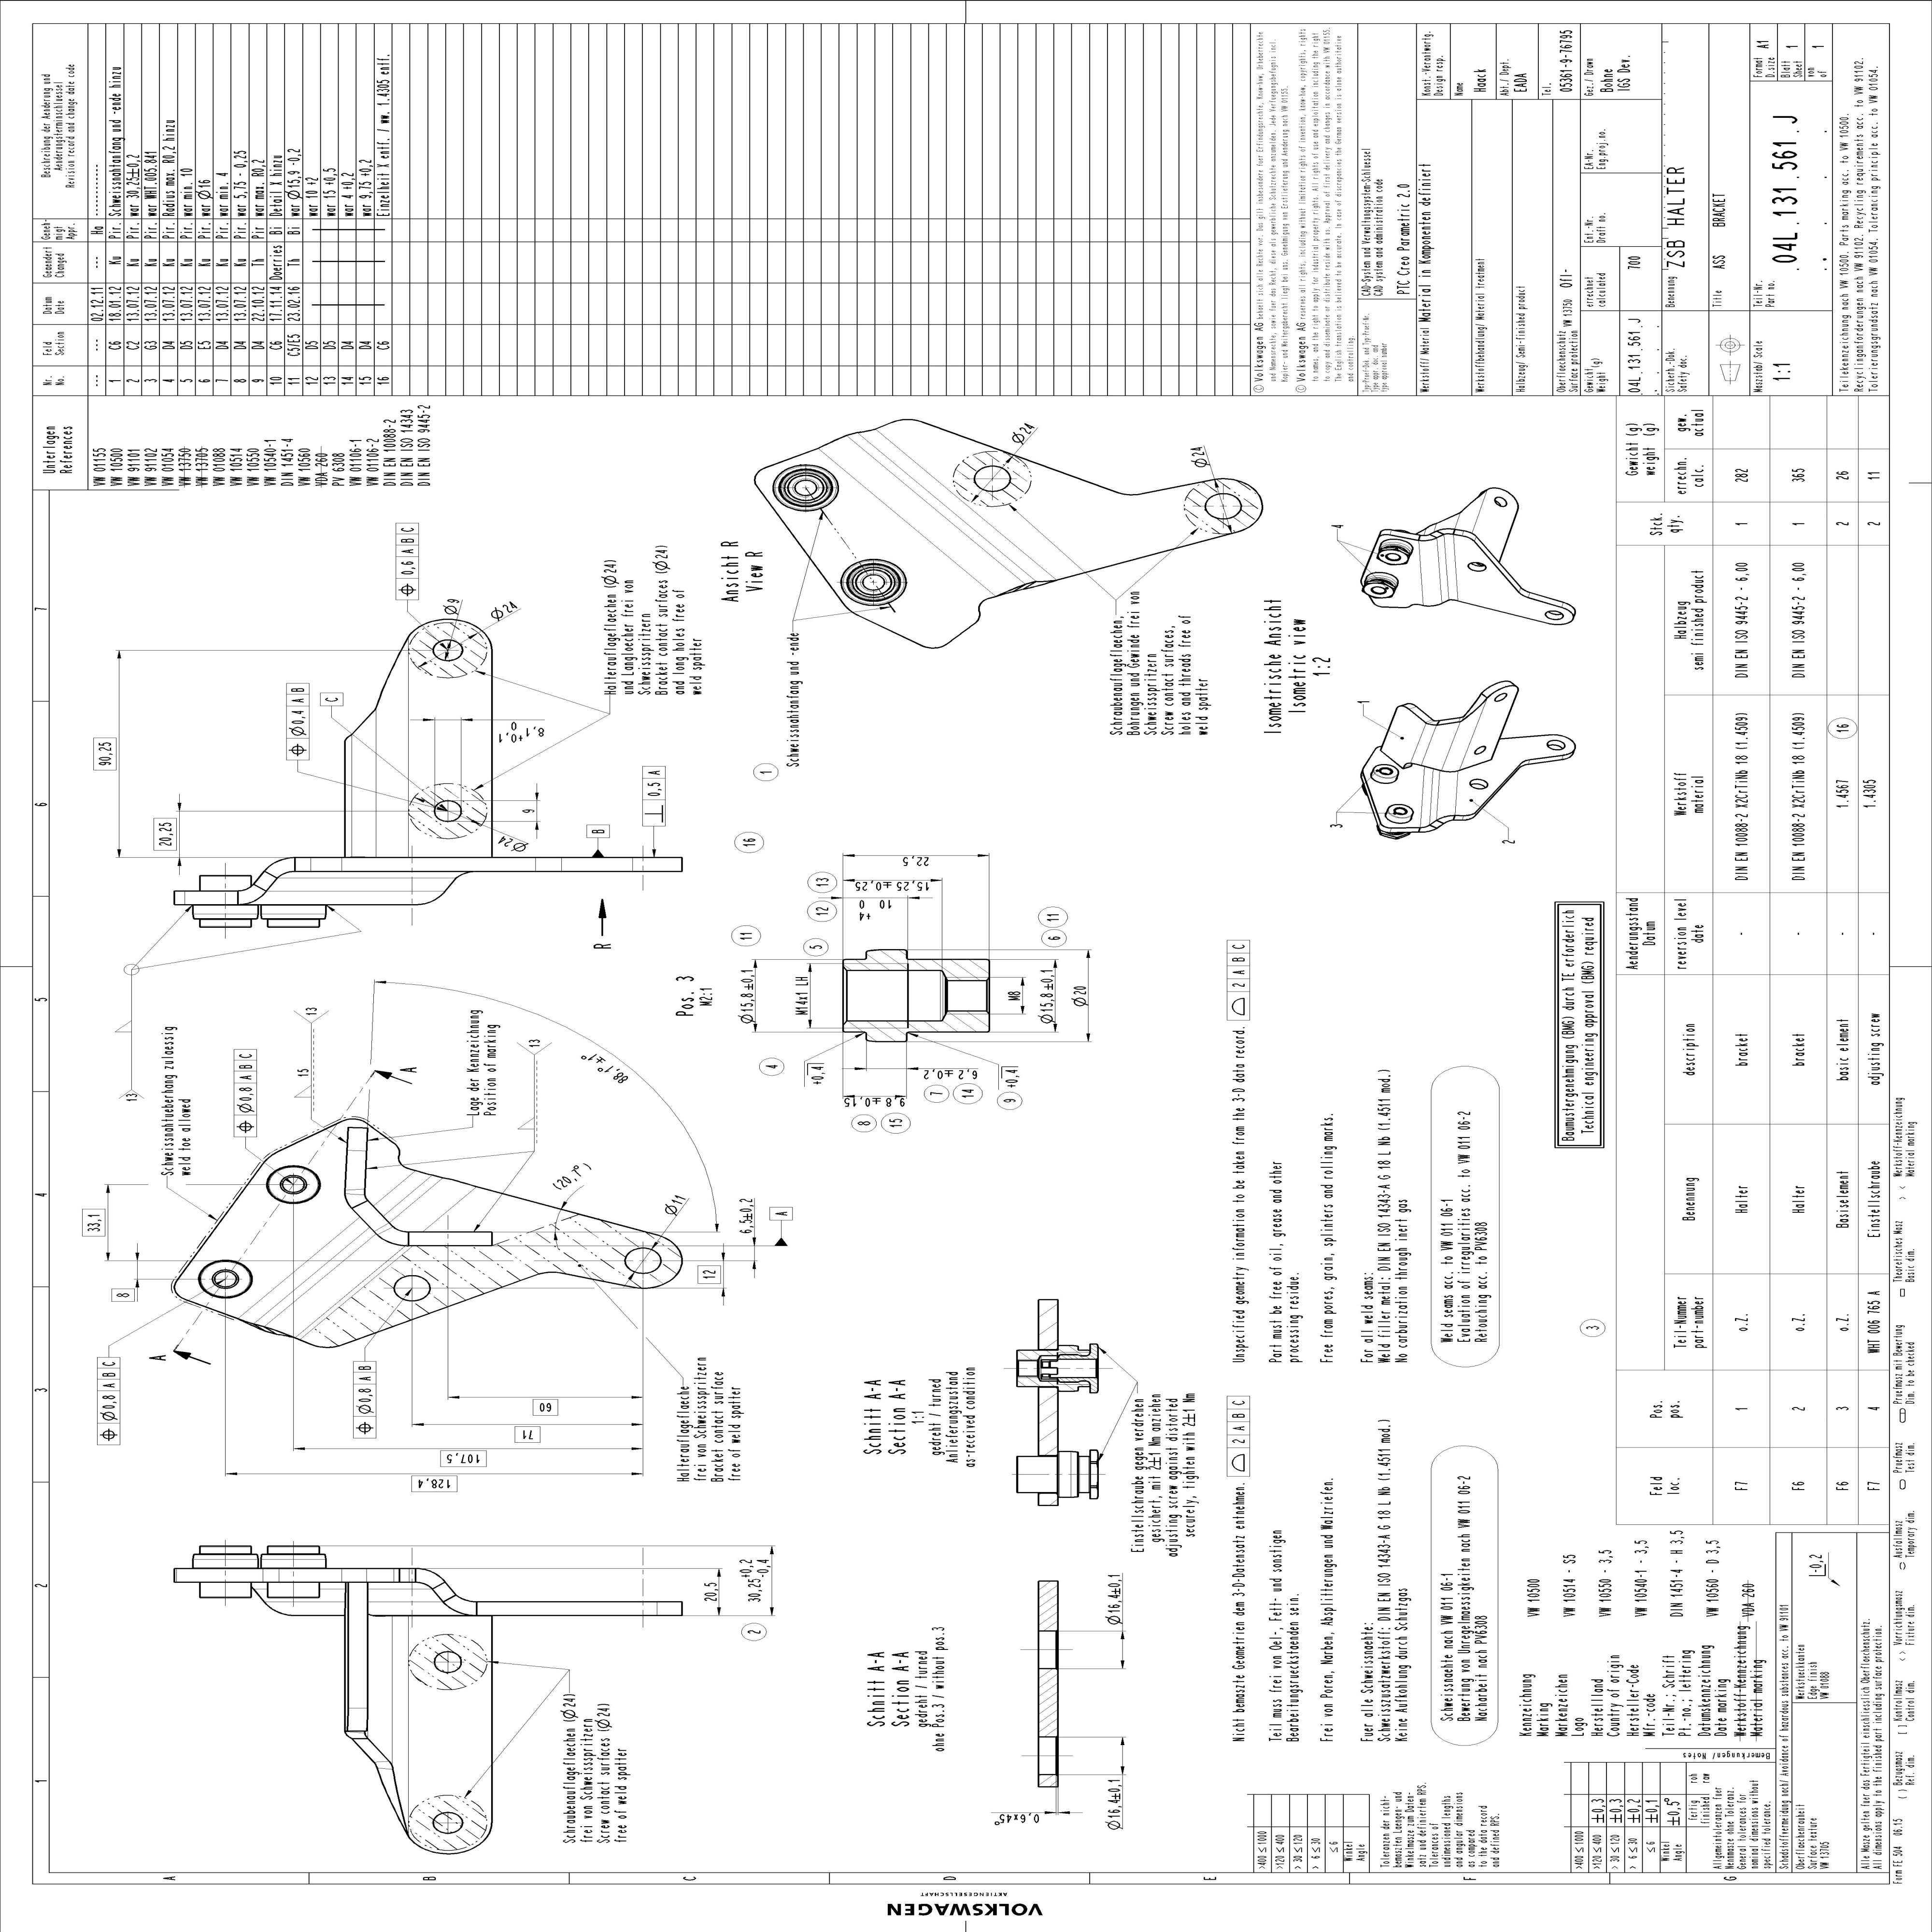BendingEdge: (814, 423, 1029, 611), (859, 420, 1061, 594), (843, 426, 1039, 595), (259, 1218, 412, 1354), (235, 1211, 374, 1333), (377, 636, 411, 860), (1437, 688, 1489, 780), (390, 1612, 412, 1823), (350, 706, 379, 859), (263, 875, 459, 893), (1418, 705, 1465, 776), (1452, 482, 1490, 538), (1418, 537, 1444, 609), (1407, 717, 1440, 770), (1435, 767, 1460, 822), (1433, 500, 1465, 539), (1443, 534, 1460, 605), (1418, 763, 1435, 831), (1435, 535, 1451, 606), (1427, 765, 1443, 829), (373, 1758, 395, 1772)
BendingEdgeCurve: (443, 1593, 479, 1617), (265, 853, 298, 879), (412, 1566, 446, 1588), (234, 884, 266, 906)
InnerContour: (624, 1242, 664, 1274), (390, 1274, 432, 1302), (971, 464, 1012, 493), (1203, 493, 1244, 521), (430, 635, 465, 661), (431, 798, 463, 823), (430, 1811, 462, 1834), (431, 1650, 462, 1673), (1466, 557, 1488, 572), (1469, 777, 1490, 792), (1546, 738, 1566, 752), (1543, 608, 1563, 620), (1491, 495, 1508, 508), (1474, 744, 1488, 757), (1495, 692, 1507, 703)
ThroughHole: (263, 1164, 322, 1205), (198, 1258, 254, 1299)
